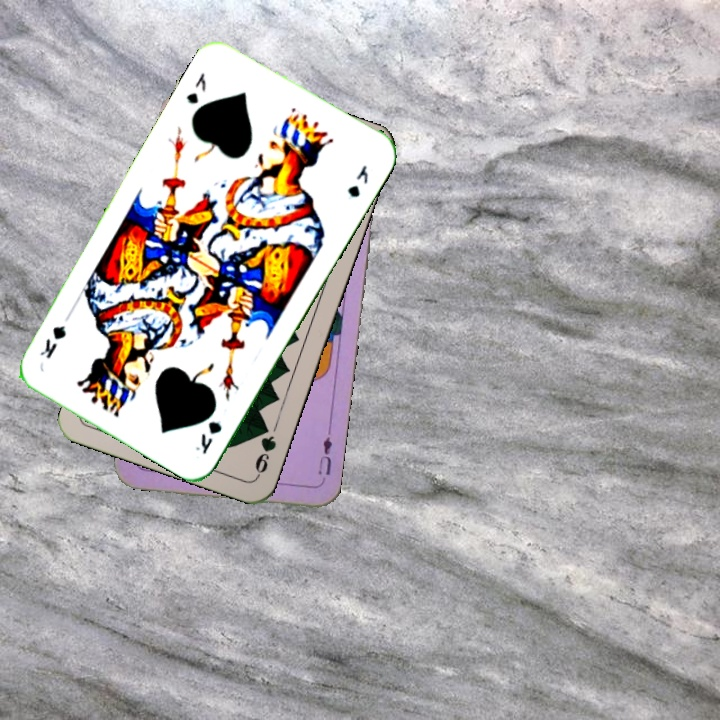EU: (314, 433, 335, 478)
G9: (251, 419, 279, 479)
GK: (191, 417, 225, 457), (182, 68, 209, 107)
